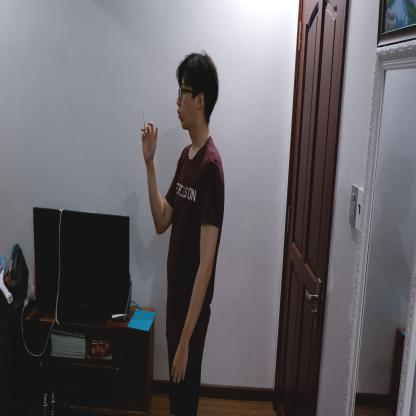cigarette: (142, 106, 146, 128)
person: (142, 50, 228, 415)
